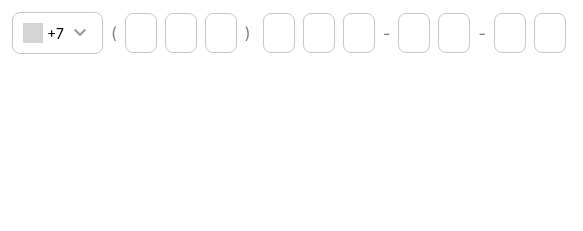
Test: PhoneInput › сохраняет выбранный регион при одинаковом префиксе
The image size is (583, 231).
Click the button named "Россия +7" at (57, 33), box [12,12,103,54]
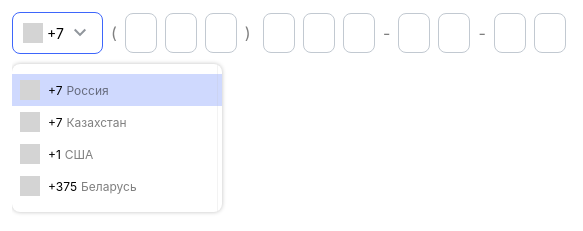
Click the option "+7Казахстан" at (117, 122), box [12,106,222,138]
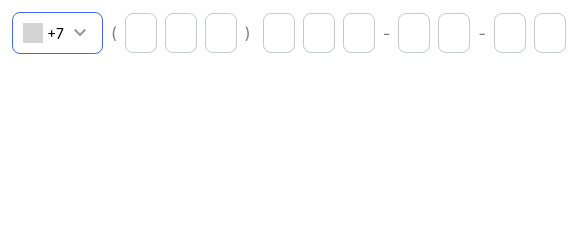
Check: the option with alt text "Россия" is gone
